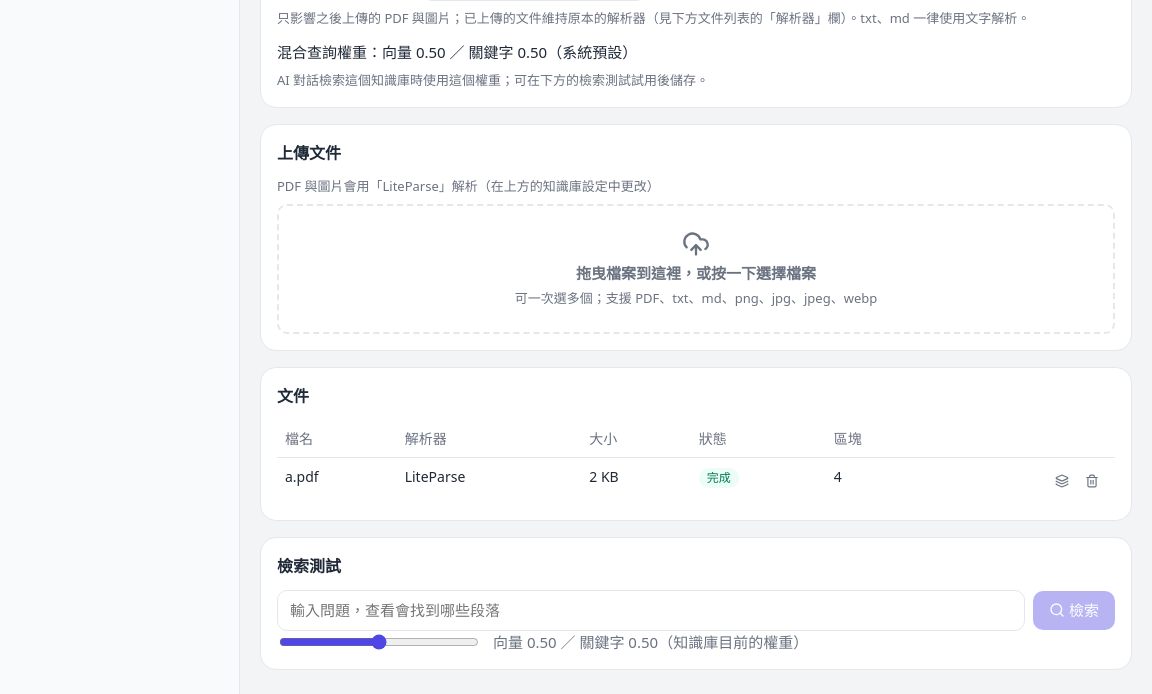
Scenario: KbPage › runs a retrieval test
(page scrolled)
Type "特休" into the field named "檢索問題". click: (651, 610)
box: 277,590 -> 1025,630
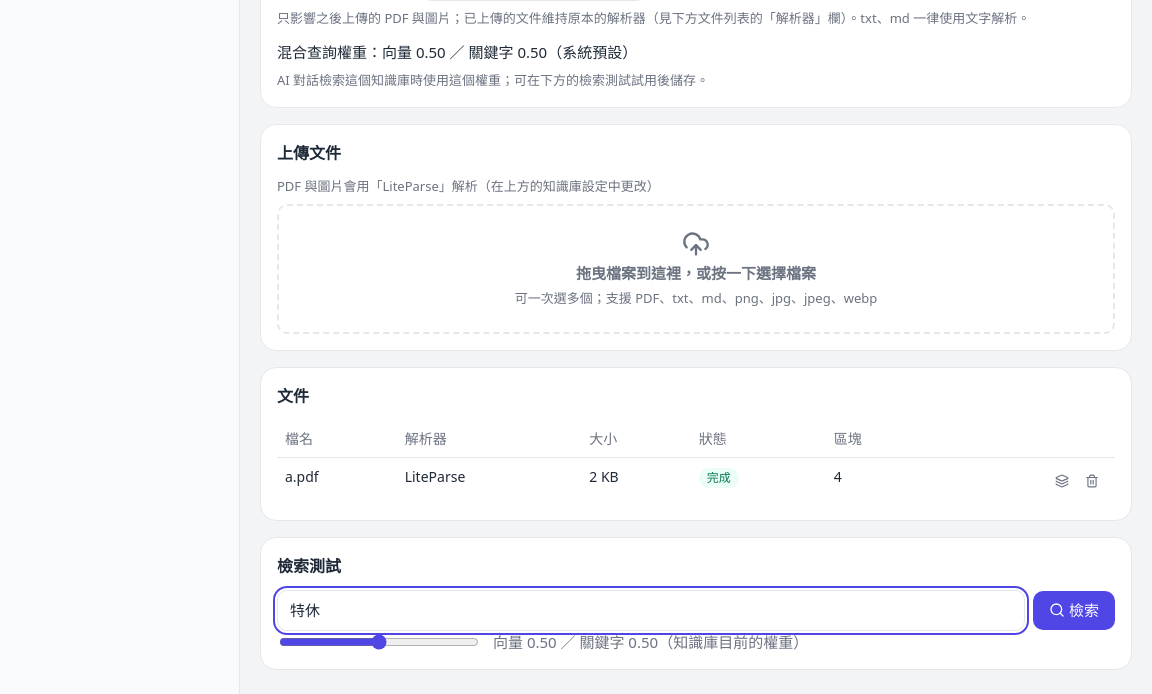
Click the button "檢索". click: (1074, 610)
box: 1033,591 -> 1115,630
(page scrolled)
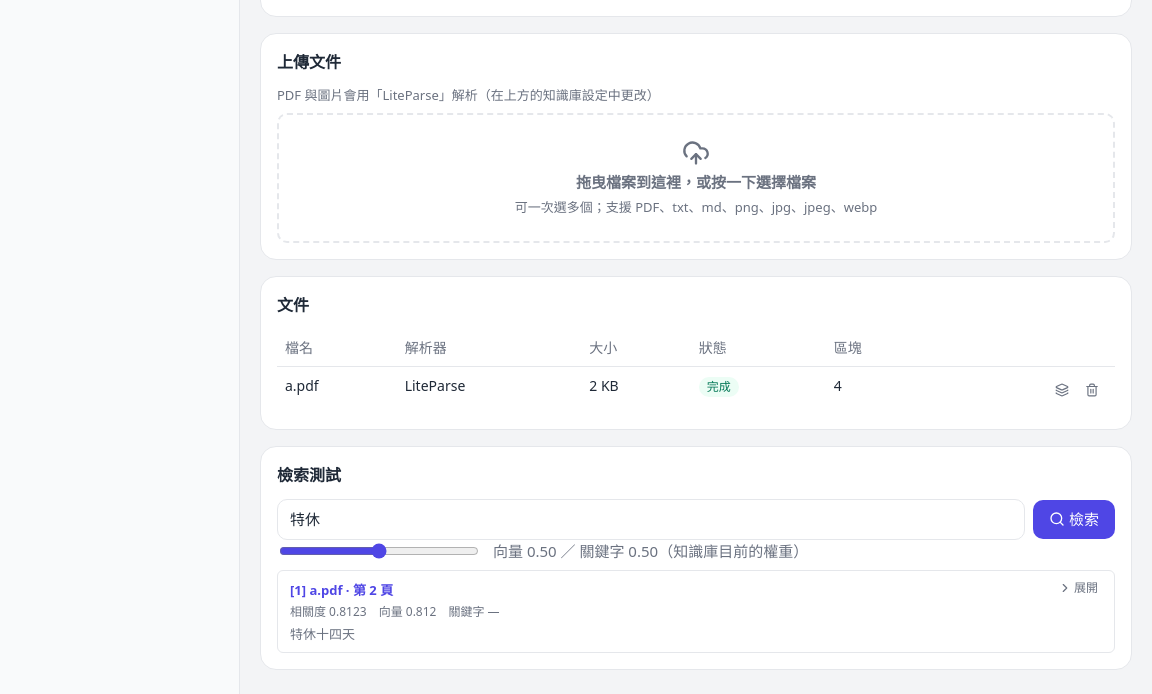
Now the text "特休十四天" is shown, box 290,624 -> 355,642
Now the text "[1] a.pdf · 第 2 頁" is shown, box 290,581 -> 393,600
Now the text "相關度 0.8123 向量 0.812 關鍵字 —" is shown, box 290,602 -> 500,620
